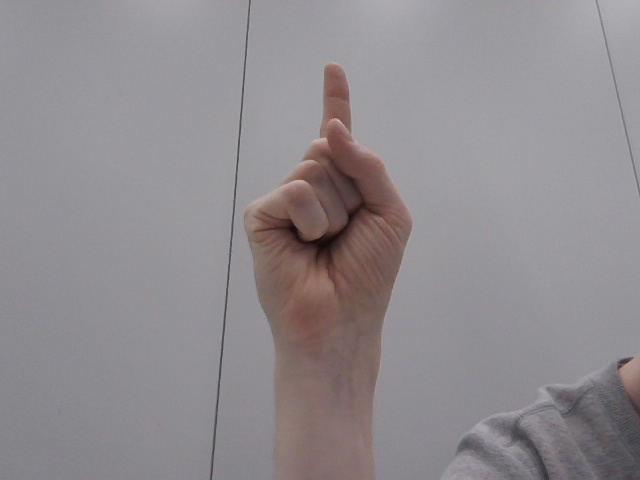up: (226, 49, 436, 368)
